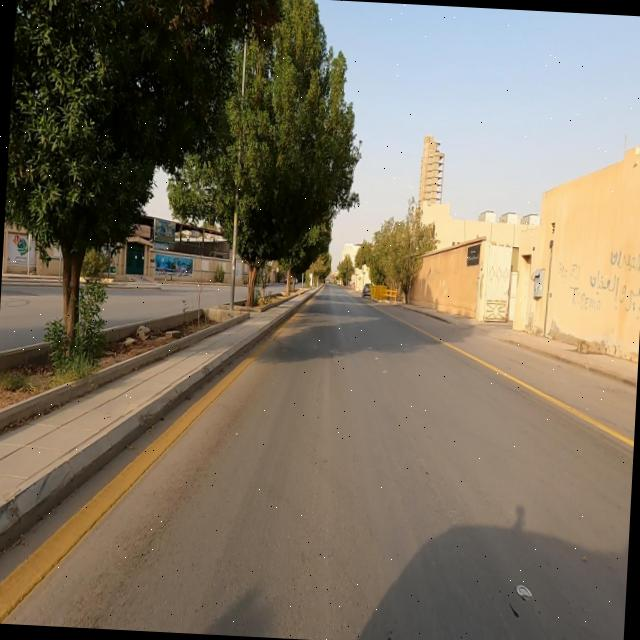Graffiti: (557, 244, 640, 312)
